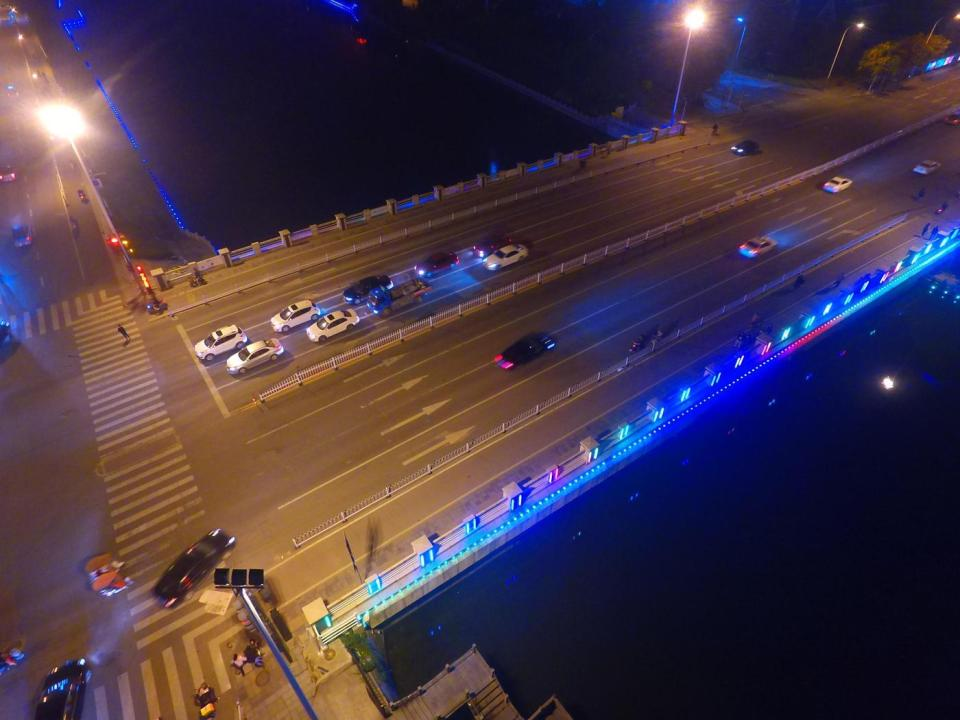car: (149, 526, 237, 608), (33, 656, 86, 718), (491, 330, 555, 370), (81, 550, 134, 597), (225, 337, 284, 375), (194, 324, 248, 361), (305, 308, 361, 343), (268, 297, 322, 332), (342, 274, 394, 304), (480, 242, 528, 270), (412, 252, 461, 278), (471, 234, 512, 258), (736, 234, 777, 258), (821, 175, 853, 192), (730, 138, 760, 156), (10, 224, 32, 247), (912, 159, 943, 174), (0, 83, 18, 102), (0, 164, 16, 182), (944, 112, 960, 126)
truck: (367, 274, 431, 314)
